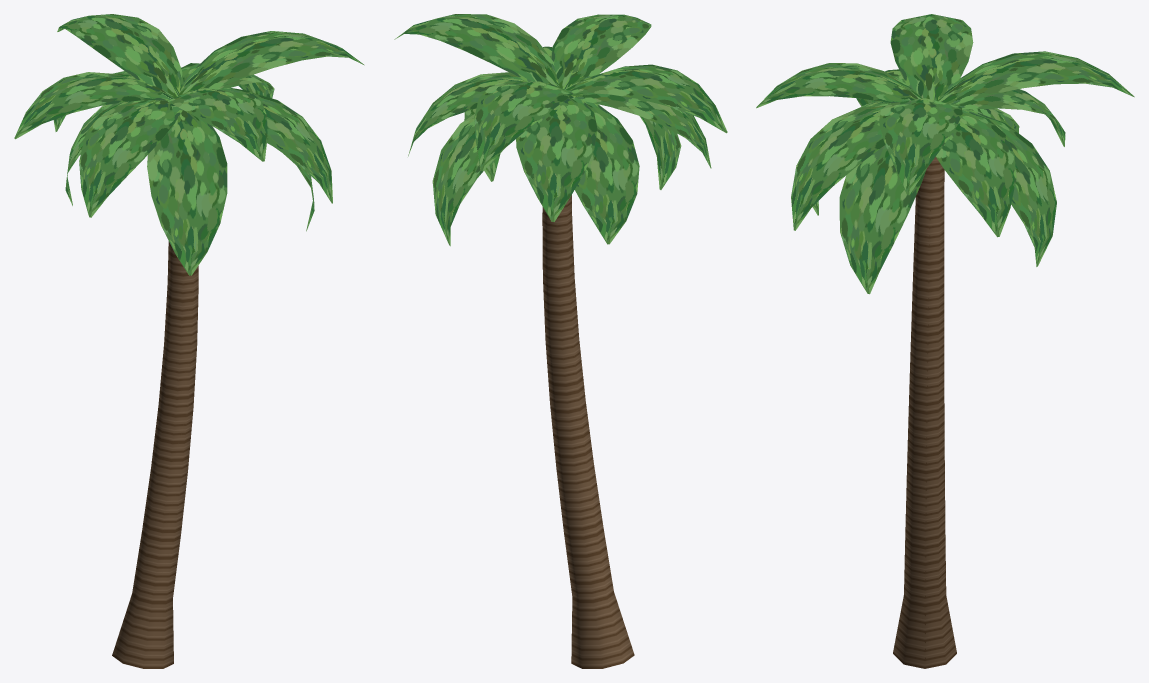
The model's file is tree_date_palm.glb.
3 renders of one model, left to right at view 1: azimuth 30°, elevation 25°; view 2: azimuth 150°, elevation 25°; view 3: azimuth 270°, elevation 25°, orthographic. The views are drawn at different scales.
Visible parts, largest first — view 1: canopy, trunk; view 2: canopy, trunk; view 3: canopy, trunk.
Part boxes in pixels (<box>): canopy: <box>14,14,364,275</box>; trunk: <box>112,241,198,668</box>; canopy: <box>394,14,727,246</box>; trunk: <box>542,195,634,668</box>; canopy: <box>756,14,1134,294</box>; trunk: <box>893,156,956,668</box>.
Bounding box in the file's own units: 5.69 × 9.54 × 5.37.
3 materials, 2 textured.
